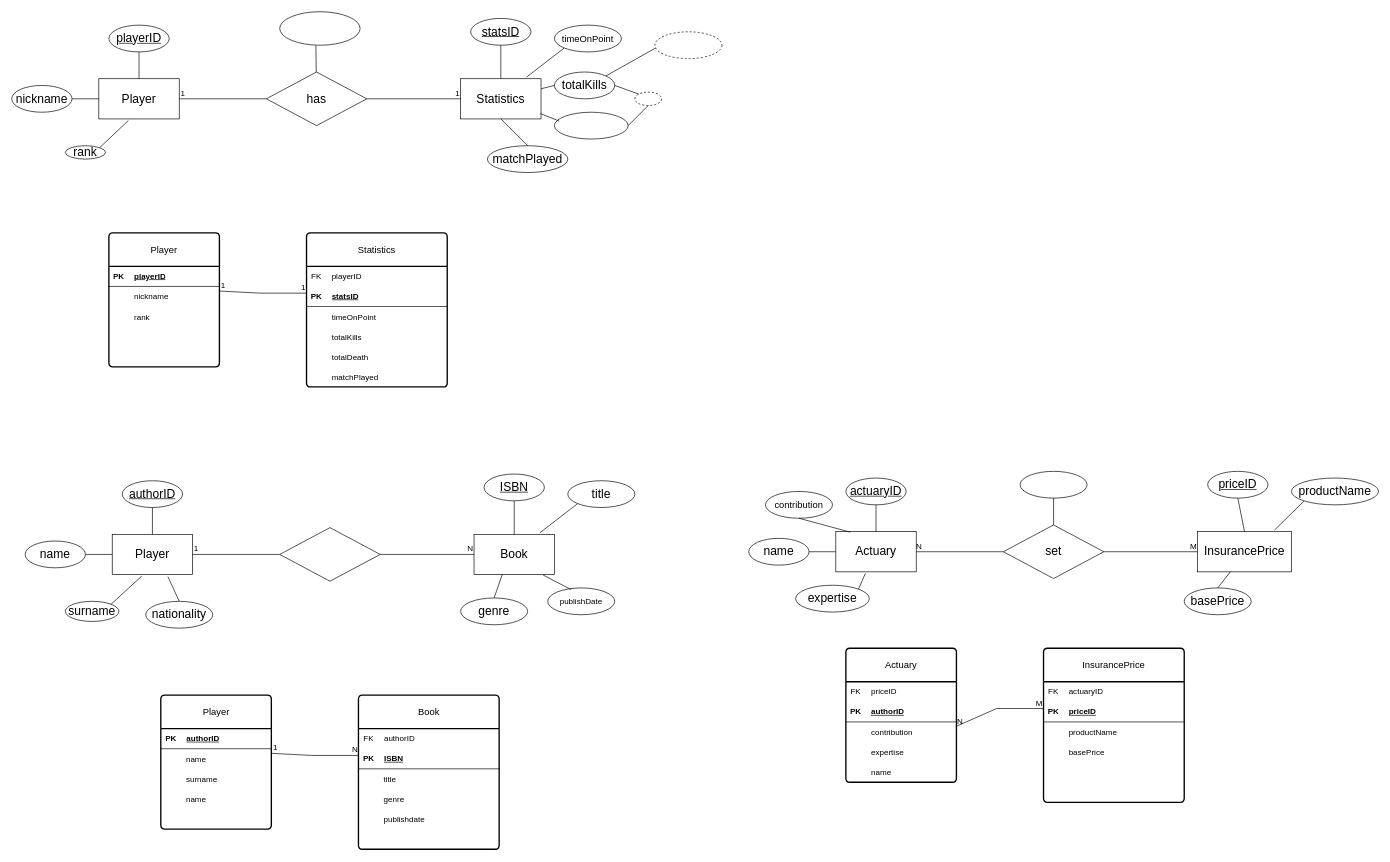
Some shapes in this 1390 by 862 pixel diagram are drawn without their labels. Each missing label, with the box of its shape:
K/D: (634, 91, 662, 106)
major_or_qualifier bonuses: (279, 11, 360, 45)
nonTradedKills: (654, 31, 722, 59)
Price: (1019, 471, 1087, 498)
totalDeaths: (554, 112, 628, 139)
write: (279, 527, 380, 581)
